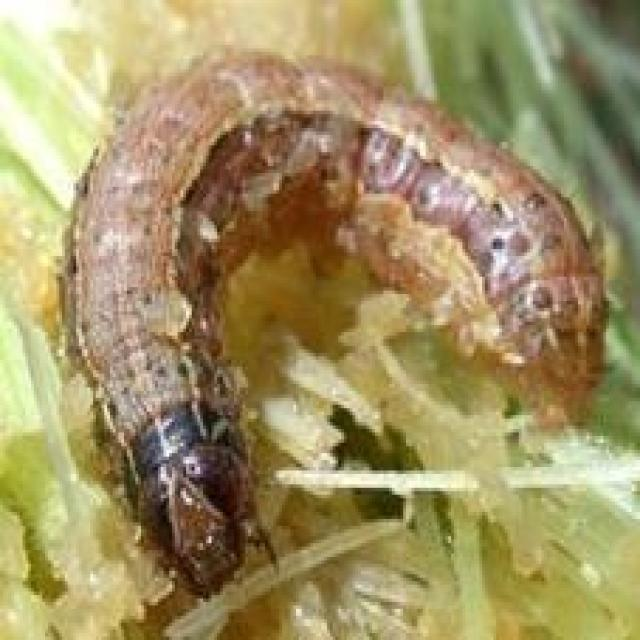army worm: (63, 43, 616, 589)
